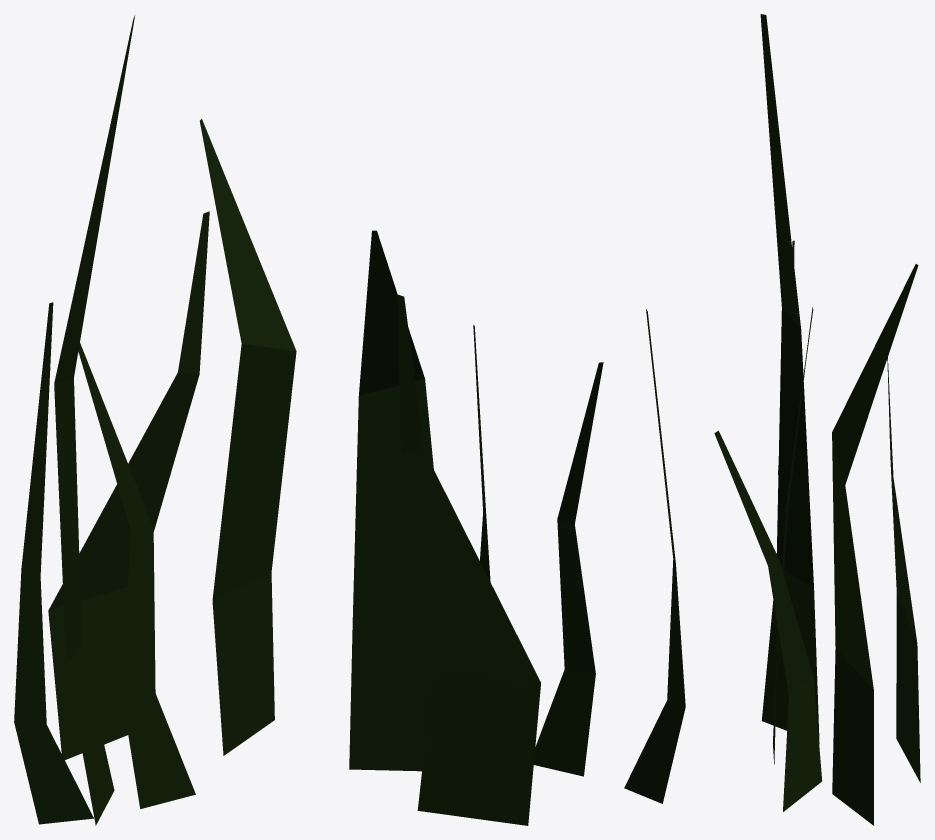
The model's file is HIERBAJO_4.fbx.
3 renders of one model, left to right at view 1: azimuth 30°, elevation 25°; view 2: azimuth 150°, elevation 25°; view 3: azimuth 270°, elevation 25°, orthographic. The views are drawn at different scales.
Parts seen in each view (by area): view 1: HIERBAJOS_4; view 2: HIERBAJOS_4; view 3: HIERBAJOS_4.
Boxes of the visible parts, <box> form: HIERBAJOS_4: <box>14,15,296,825</box>; HIERBAJOS_4: <box>349,230,685,825</box>; HIERBAJOS_4: <box>714,14,920,825</box>.
Size of the model in its own units: 24.08 by 58.85 by 15.17.
